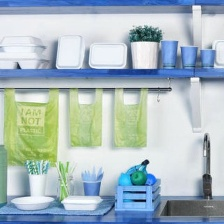plastic_bag: (0, 83, 61, 171), (109, 84, 151, 153), (65, 85, 106, 152)
